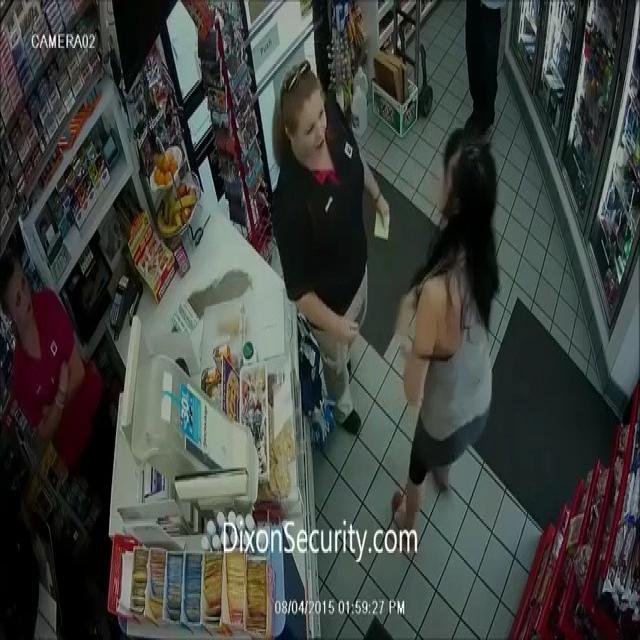fight: (271, 62, 494, 531)
